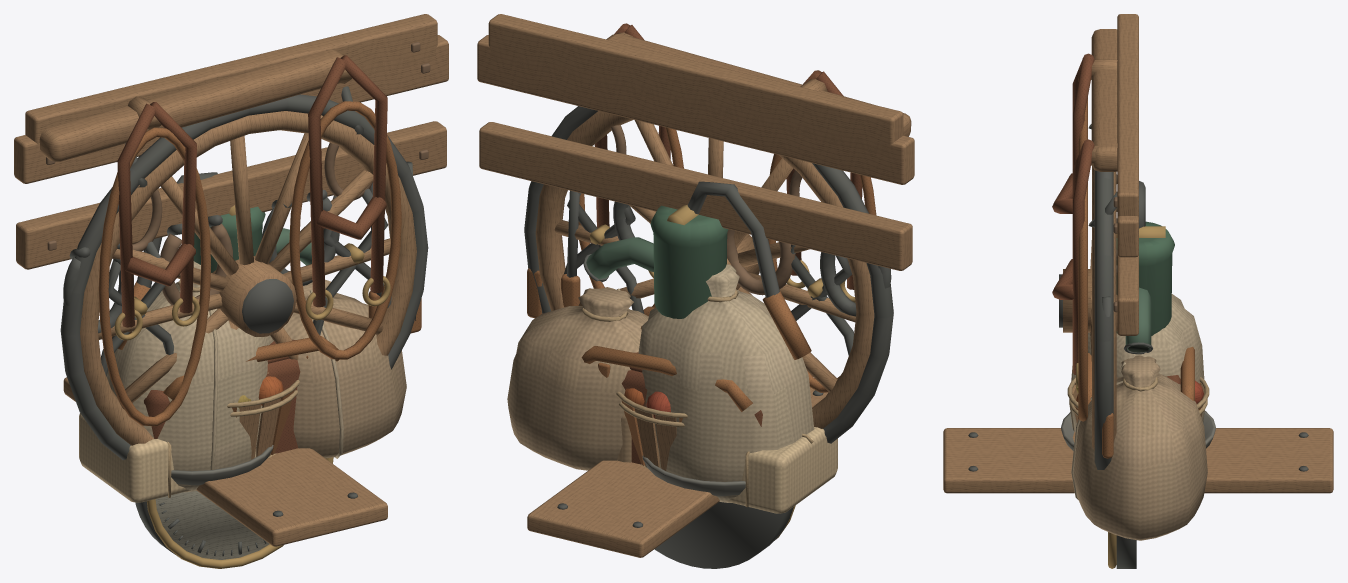
File: frontier-street-trades.glb
3 renders of one model, left to right at view 1: azimuth 30°, elevation 25°; view 2: azimuth 150°, elevation 25°; view 3: azimuth 270°, elevation 25°, orthographic. The views are drawn at different scales.
Parts seen in each view (by area): view 1: wheelwright-spare, stable-bridles, gathered-mail-sacks, icehouse-tongs, farrier-shoe-rack, stock-trough-pump, depot-wall-clock, cord-bound-parcels, travellers-valise, grocers-apple-basket, assayers-pan; view 2: gathered-mail-sacks, farrier-shoe-rack, stock-trough-pump, stable-bridles, icehouse-tongs, wheelwright-spare, cord-bound-parcels, depot-wall-clock, grocers-apple-basket, travellers-valise, assayers-pan; view 3: stock-trough-pump, gathered-mail-sacks, stable-bridles, wheelwright-spare, icehouse-tongs, farrier-shoe-rack, depot-wall-clock, travellers-valise, grocers-apple-basket, assayers-pan.
Boxes of the visible parts, left/top/right/bottom form: wheelwright-spare: left=60, top=94, right=428, bottom=460; stable-bridles: left=25, top=14, right=437, bottom=426; gathered-mail-sacks: left=106, top=261, right=406, bottom=492; icehouse-tongs: left=14, top=35, right=448, bottom=376; farrier-shoe-rack: left=16, top=121, right=446, bottom=333; stock-trough-pump: left=63, top=172, right=387, bottom=546; depot-wall-clock: left=135, top=457, right=333, bottom=568; cord-bound-parcels: left=79, top=413, right=256, bottom=502; travellers-valise: left=144, top=336, right=339, bottom=453; grocers-apple-basket: left=227, top=372, right=299, bottom=459; assayers-pan: left=171, top=445, right=273, bottom=485; gathered-mail-sacks: left=507, top=264, right=814, bottom=502; farrier-shoe-rack: left=479, top=122, right=912, bottom=318; stock-trough-pump: left=527, top=181, right=828, bottom=557; stable-bridles: left=488, top=14, right=903, bottom=392; icehouse-tongs: left=477, top=34, right=914, bottom=355; wheelwright-spare: left=524, top=106, right=893, bottom=443; cord-bound-parcels: left=616, top=414, right=837, bottom=513; depot-wall-clock: left=654, top=502, right=795, bottom=568; grocers-apple-basket: left=616, top=326, right=687, bottom=470; travellers-valise: left=581, top=306, right=762, bottom=464; assayers-pan: left=642, top=455, right=745, bottom=496; stock-trough-pump: left=943, top=181, right=1333, bottom=493; gathered-mail-sacks: left=1069, top=294, right=1207, bottom=540; stable-bridles: left=1052, top=14, right=1138, bottom=421; wheelwright-spare: left=1059, top=165, right=1117, bottom=469; icehouse-tongs: left=1088, top=29, right=1138, bottom=257; farrier-shoe-rack: left=1102, top=174, right=1138, bottom=458; depot-wall-clock: left=1108, top=532, right=1136, bottom=568; travellers-valise: left=1088, top=346, right=1194, bottom=404; grocers-apple-basket: left=1067, top=377, right=1209, bottom=423; assayers-pan: left=1061, top=411, right=1215, bottom=450.
Size of the model in its own units: 1.14 by 1.27 by 0.98.
Materials: 4 (3 with a texture image).
